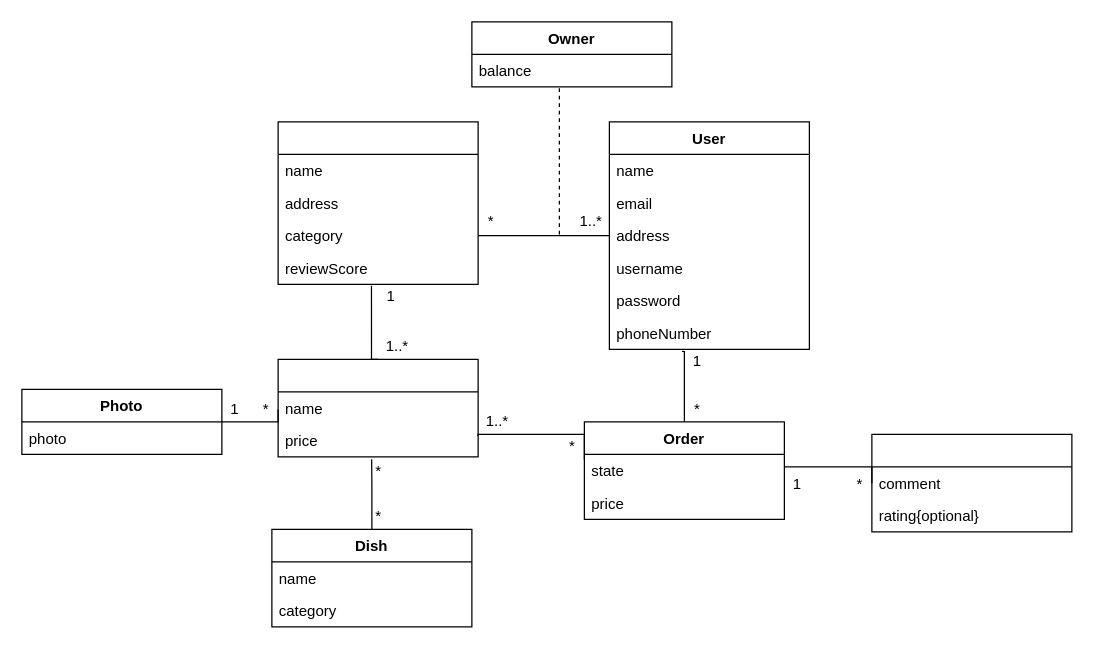
This 1094x653 diagram has some shape labels left out. The box of each missing label's shape, as (x1, y1, x2, y2) in pixels:
Menu: (277, 358, 478, 457)
Restaurant: (277, 121, 478, 284)
Review: (871, 433, 1072, 532)
